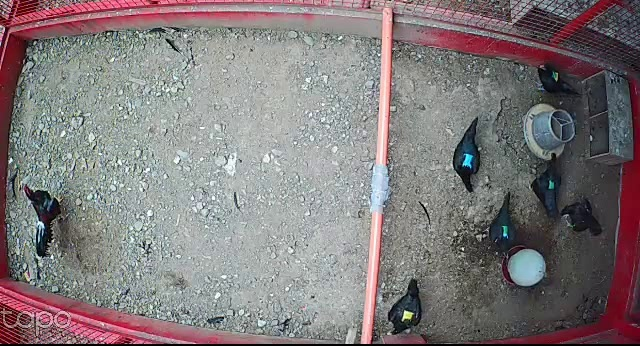Chicken: (451, 113, 490, 196), (527, 153, 567, 219), (385, 277, 426, 337), (557, 196, 607, 238), (534, 60, 586, 100), (489, 187, 517, 261)
Drinker: (498, 242, 546, 287)
Feeder: (523, 103, 576, 161)
Rooster: (22, 179, 68, 257)
Saddle_Color_Blue: (462, 153, 474, 166)
Saddle_Color_Yellow: (401, 309, 414, 320)
Saddle_Color_YellowGreen: (552, 71, 559, 81)
